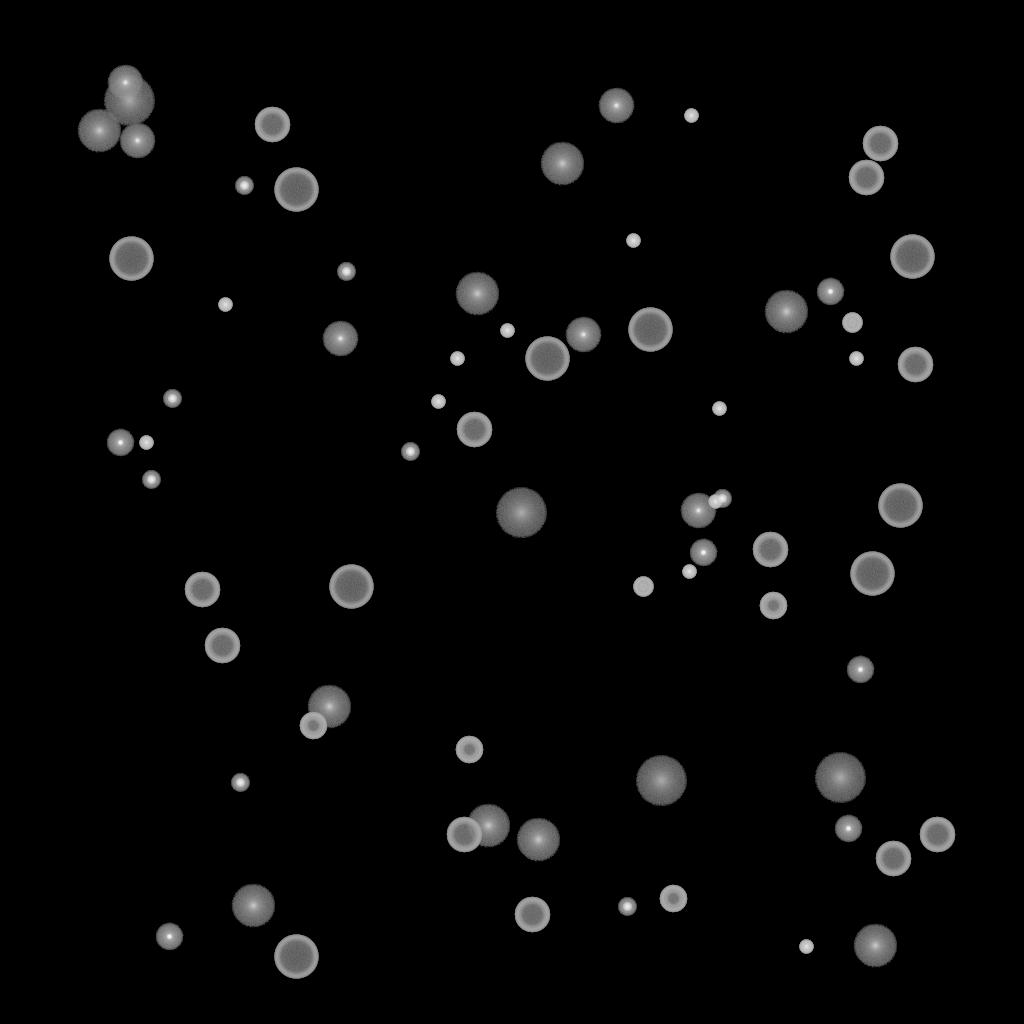depth:-10: (155, 923, 183, 951), (106, 429, 134, 457), (816, 278, 844, 306), (834, 815, 862, 843), (846, 656, 874, 684), (689, 539, 717, 567)
depth:-20: (337, 263, 355, 281), (713, 490, 731, 508), (618, 898, 636, 916), (231, 774, 249, 792), (163, 390, 181, 408), (235, 177, 253, 195), (142, 471, 160, 489), (401, 443, 419, 461)
depth:-30: (684, 109, 698, 123), (708, 495, 722, 509), (139, 436, 153, 450), (500, 324, 514, 338), (799, 940, 813, 954), (849, 352, 863, 366), (431, 395, 445, 409), (626, 234, 640, 248), (450, 352, 464, 366), (682, 565, 696, 579), (218, 298, 232, 312), (712, 402, 726, 416)
depth:-40: (842, 313, 862, 333), (633, 577, 653, 597)
depth:-50: (299, 712, 327, 740), (659, 885, 687, 913), (455, 736, 483, 764), (759, 592, 787, 620)
depth:-60: (875, 841, 911, 877), (862, 126, 898, 162), (752, 532, 788, 568), (184, 572, 220, 608), (514, 897, 550, 933), (919, 817, 955, 853), (897, 347, 933, 383), (848, 160, 884, 196), (204, 628, 240, 664), (446, 817, 482, 853), (254, 107, 290, 143), (456, 412, 492, 448)
depth:-70: (890, 235, 934, 279), (274, 935, 318, 979), (878, 484, 922, 528), (329, 565, 373, 609), (525, 337, 569, 381), (850, 552, 894, 596), (628, 308, 672, 352), (109, 237, 153, 281), (274, 168, 318, 212)
depth:0: (107, 65, 143, 101), (322, 321, 358, 357), (680, 493, 716, 529), (565, 317, 601, 353), (119, 123, 155, 159), (598, 88, 634, 124)
depth:10: (853, 924, 897, 968), (455, 272, 499, 316), (466, 804, 510, 848), (764, 290, 808, 334), (231, 884, 275, 928), (540, 142, 584, 186), (77, 109, 121, 153), (307, 685, 351, 729), (516, 818, 560, 862)
depth:20: (495, 488, 547, 538), (814, 753, 866, 803), (635, 756, 687, 806), (103, 76, 155, 126)
